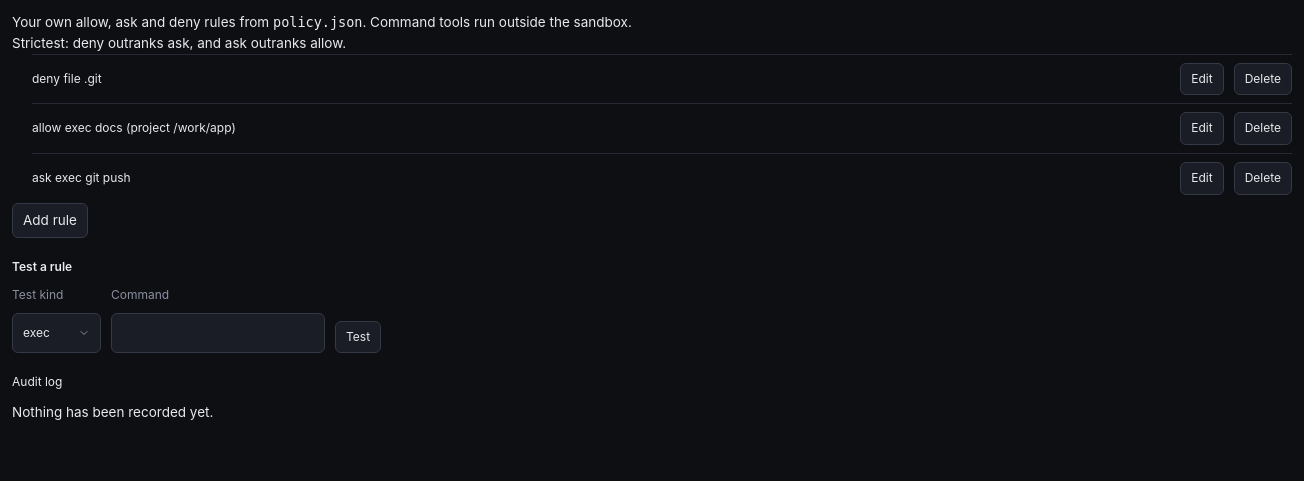
Test case: Owner rules in Settings › closes the editor when a failed save finds the rules changed underneath it
Click the button with aria-label "Edit rule 1: .git". click: x=1202, y=79
box: [1180, 63, 1224, 95]
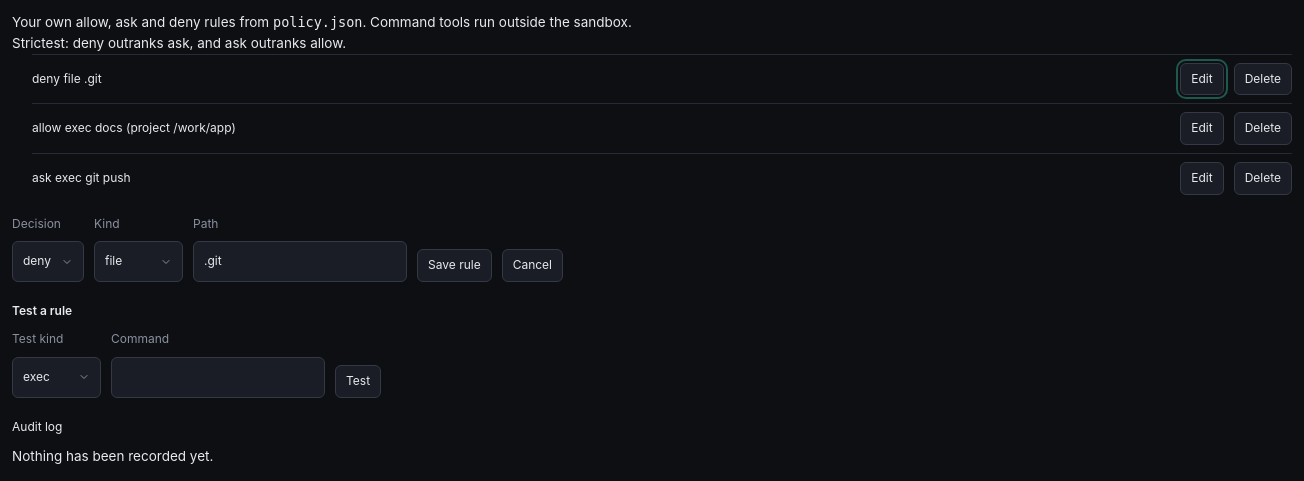
Type "x" into the field labelled "Path". click: x=300, y=262
box: [193, 241, 407, 282]
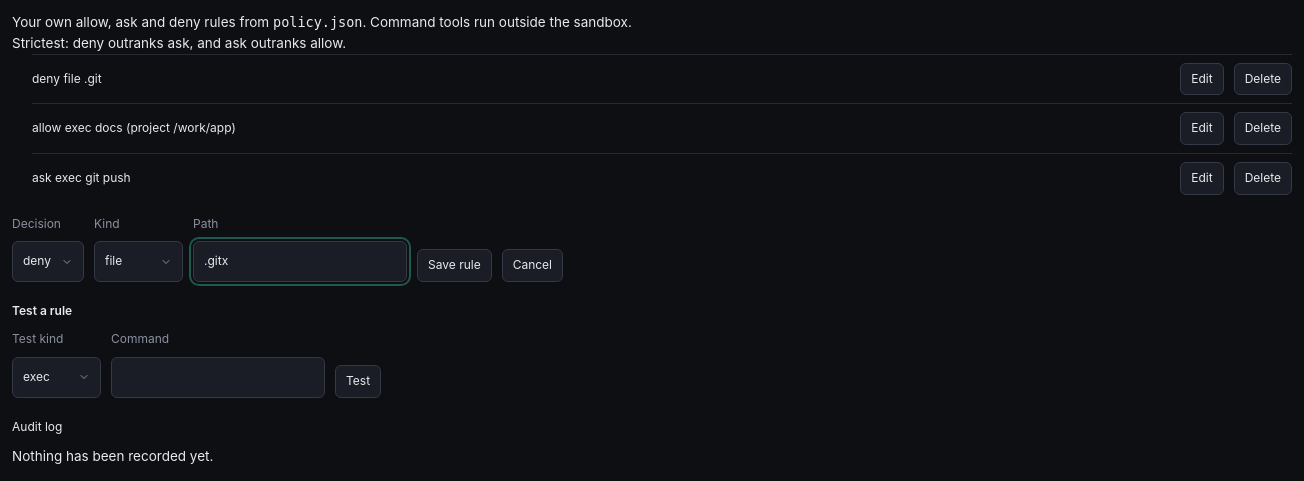
Click the button "Save rule". click: x=454, y=266
box: [417, 249, 492, 282]
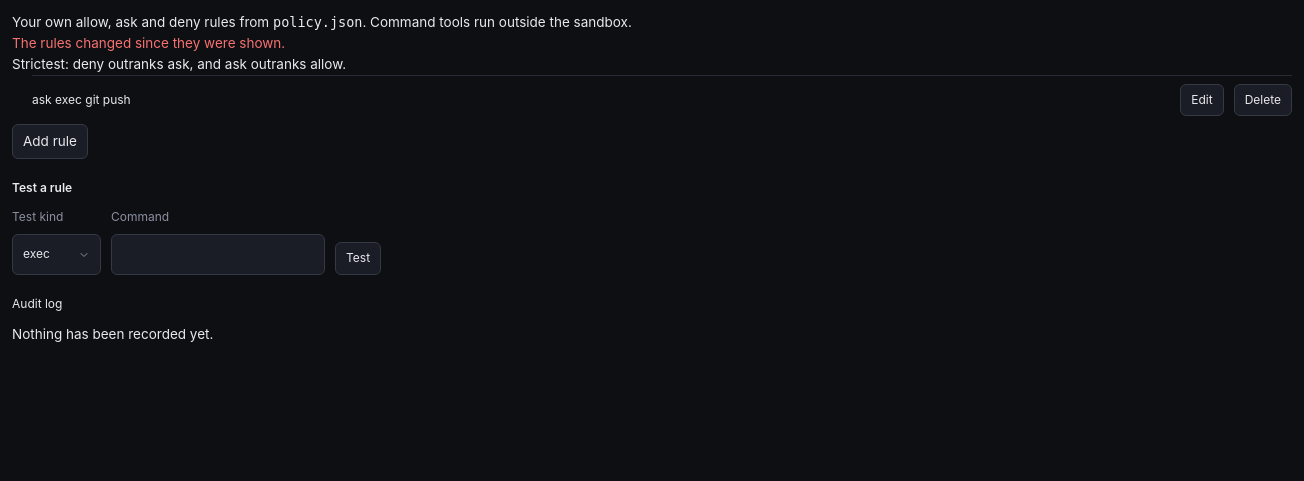
Check: the message shows "changed", box [12, 35, 285, 51]
Check: the label labelled "Path" is gone
Check: the text "ask exec git push" is shown, box [32, 92, 131, 107]
